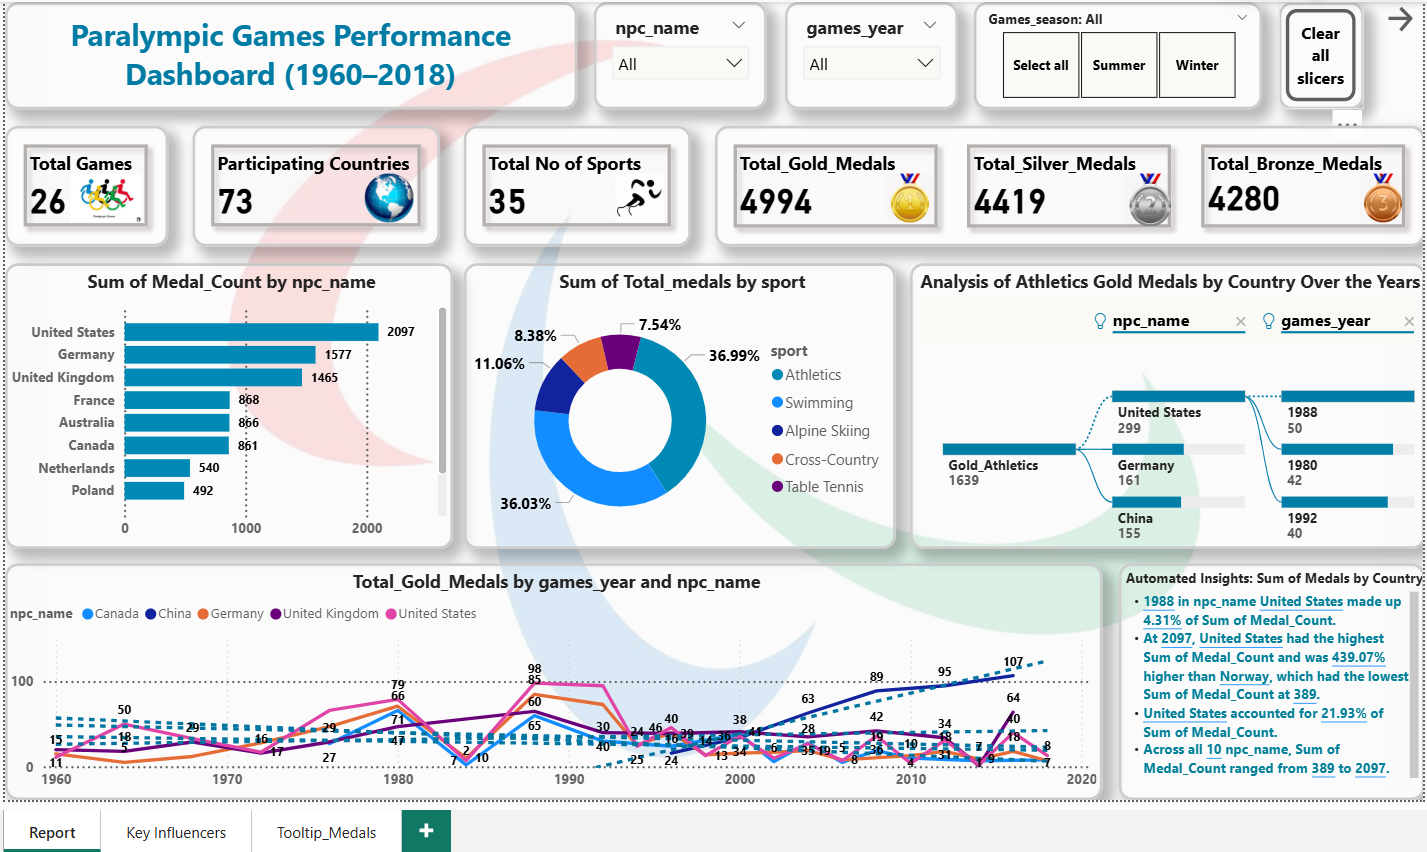

What the dashboard file says about the page in this screenshot:
{"tool":"powerbi","page":{"name":"Report","canvas":[1280,720],"ordinal":0},"visuals":[{"type":"barChart","fields":{"Y":["Sum(Overall Rank.Medal_Count)"],"Category":["Overall Rank.npc_name"]},"box":[0,235.1,403.6,257.8],"z":0},{"type":"textbox","box":[0,0,516.2,97],"z":1000},{"type":"slicer","fields":{"Values":["Overall Rank.npc_name"]},"box":[531,0,156.3,97],"z":2000},{"type":"donutChart","fields":{"Category":["Sport Wise Rank.sport"],"Y":["Sum(Sport Wise Rank.Total_medals)"]},"box":[413.5,235.1,389.5,257.8],"z":3000},{"type":"slicer","fields":{"Values":["Sport Wise Rank.games_season"]},"box":[873.3,0,260.1,97],"z":4000},{"type":"slicer","fields":{"Values":["Overall Rank.games_year"]},"box":[703.5,0,156.3,97],"z":5000},{"type":"actionButton","box":[1148.2,0,76.8,97],"z":6000},{"type":"cardVisual","fields":{"Data":["Overall Rank.Total_Gold_Medals","Overall Rank.Total_Silver_Medals","Overall Rank.Total_Bronze_Medals"]},"box":[640.1,111.9,640.1,109.1],"z":7000},{"type":"cardVisual","fields":{"Data":["Sport Wise Rank.Total No of Sports"]},"box":[414.2,111.6,204.4,108.9],"z":8000},{"type":"cardVisual","fields":{"Data":["Sport Wise Rank.Participating Countries"]},"box":[169.4,111.6,223.2,108.9],"z":9000},{"type":"cardVisual","fields":{"Data":["Overall Rank.Total Games"]},"box":[0,111.9,146.8,108.4],"z":10000},{"type":"decompositionTreeVisual","title":"Analysis of Athletics Gold Medals by Country Over the Years","fields":{"ExplainBy":["Sport Wise Rank.npc_name","Sport Wise Rank.games_year"],"Analyze":["Sport Wise Rank.Total_Gold_Alpine Skiing"]},"box":[815.8,235.1,464.5,257.8],"z":11000},{"type":"lineChart","fields":{"Category":["Overall Rank.games_year"],"Series":["Overall Rank.npc_name"],"Y":["Overall Rank.Total_Gold_Medals"]},"box":[0,505.6,990,213.9],"z":12000},{"type":"actionButton","box":[1242.5,0,37.7,31],"z":13000},{"type":"image","box":[1215.6,149.6,55.3,53.9],"z":14000},{"type":"image","box":[1004,149.6,56.6,56.6],"z":15000},{"type":"image","box":[787,149.6,57.9,53.9],"z":16000},{"type":"image","box":[53.9,137.5,74.1,78.2],"z":17000},{"type":"image","box":[315.4,149.6,62,53.9],"z":18000},{"type":"image","box":[544.5,149.6,55.3,53.9],"z":19000},{"type":"textbox","title":"Automated Insights: Sum of Medals by Country","box":[1004.1,505.6,276.2,213.9],"z":20000}]}

Visuals, with their boxes on the page's 1280x720 design canvas (x1, y1, x2, y2). These are canvas units, not pixel positions in the 1427x852 screenshot, which may show the page scaled, cropped or inside an application window:
barChart - Sum(Overall Rank.Medal_Count) x Overall Rank.npc_name: BBox(0, 235, 404, 493)
textbox: BBox(0, 0, 516, 97)
slicer - Overall Rank.npc_name: BBox(531, 0, 687, 97)
donutChart - Sport Wise Rank.sport x Sum(Sport Wise Rank.Total_medals): BBox(414, 235, 803, 493)
slicer - Sport Wise Rank.games_season: BBox(873, 0, 1133, 97)
slicer - Overall Rank.games_year: BBox(704, 0, 860, 97)
actionButton: BBox(1148, 0, 1225, 97)
cardVisual - Overall Rank.Total_Gold_Medals x Overall Rank.Total_Silver_Medals: BBox(640, 112, 1280, 221)
cardVisual - Sport Wise Rank.Total No of Sports: BBox(414, 112, 619, 220)
cardVisual - Sport Wise Rank.Participating Countries: BBox(169, 112, 393, 220)
cardVisual - Overall Rank.Total Games: BBox(0, 112, 147, 220)
"Analysis of Athletics Gold Medals by Country Over the Years" decompositionTreeVisual: BBox(816, 235, 1280, 493)
lineChart - Overall Rank.games_year x Overall Rank.npc_name: BBox(0, 506, 990, 720)
actionButton: BBox(1242, 0, 1280, 31)
image: BBox(1216, 150, 1271, 204)
image: BBox(1004, 150, 1061, 206)
image: BBox(787, 150, 845, 204)
image: BBox(54, 138, 128, 216)
image: BBox(315, 150, 377, 204)
image: BBox(544, 150, 600, 204)
"Automated Insights: Sum of Medals by Country" textbox: BBox(1004, 506, 1280, 720)
